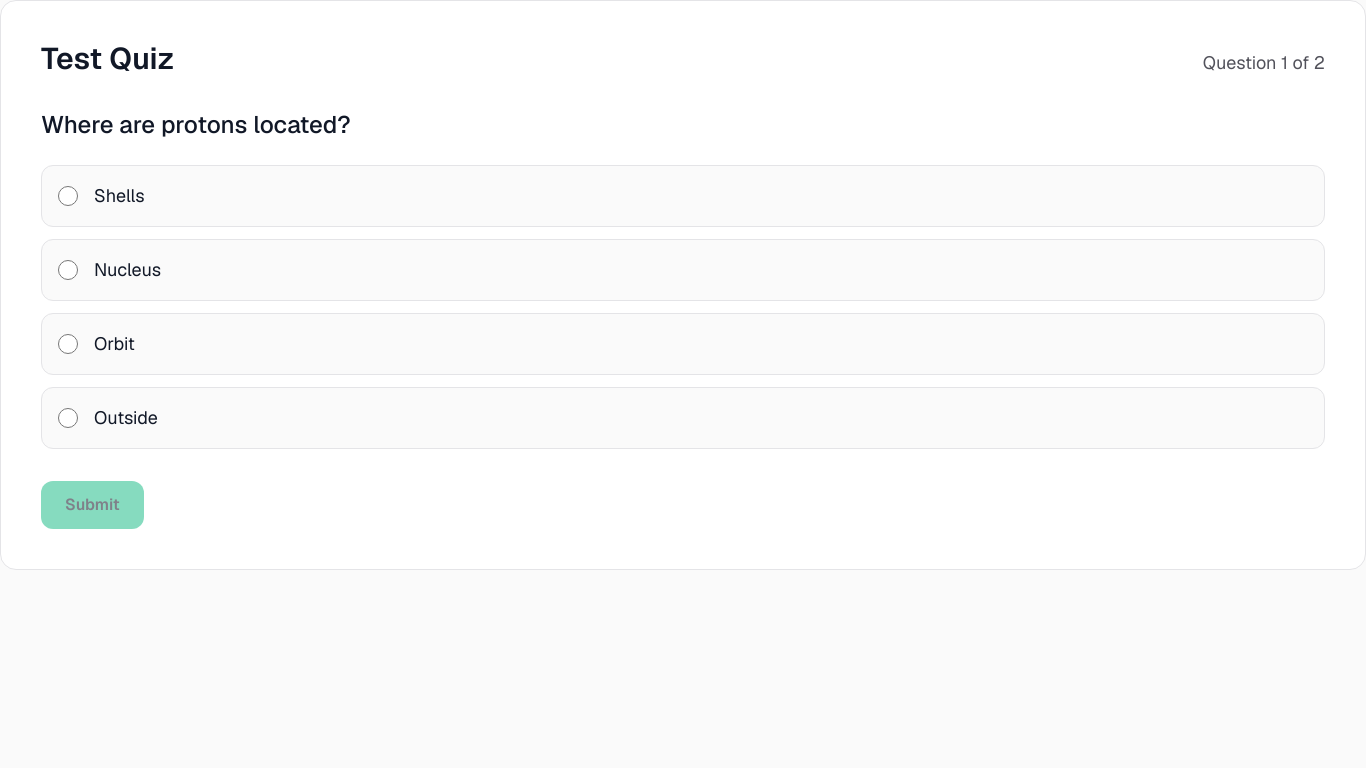
Test: QuizShell › allows answer selection without exposing correctness
Click the radio button labelled "Nucleus" at (68, 270), box left=58, top=260, right=78, bottom=280
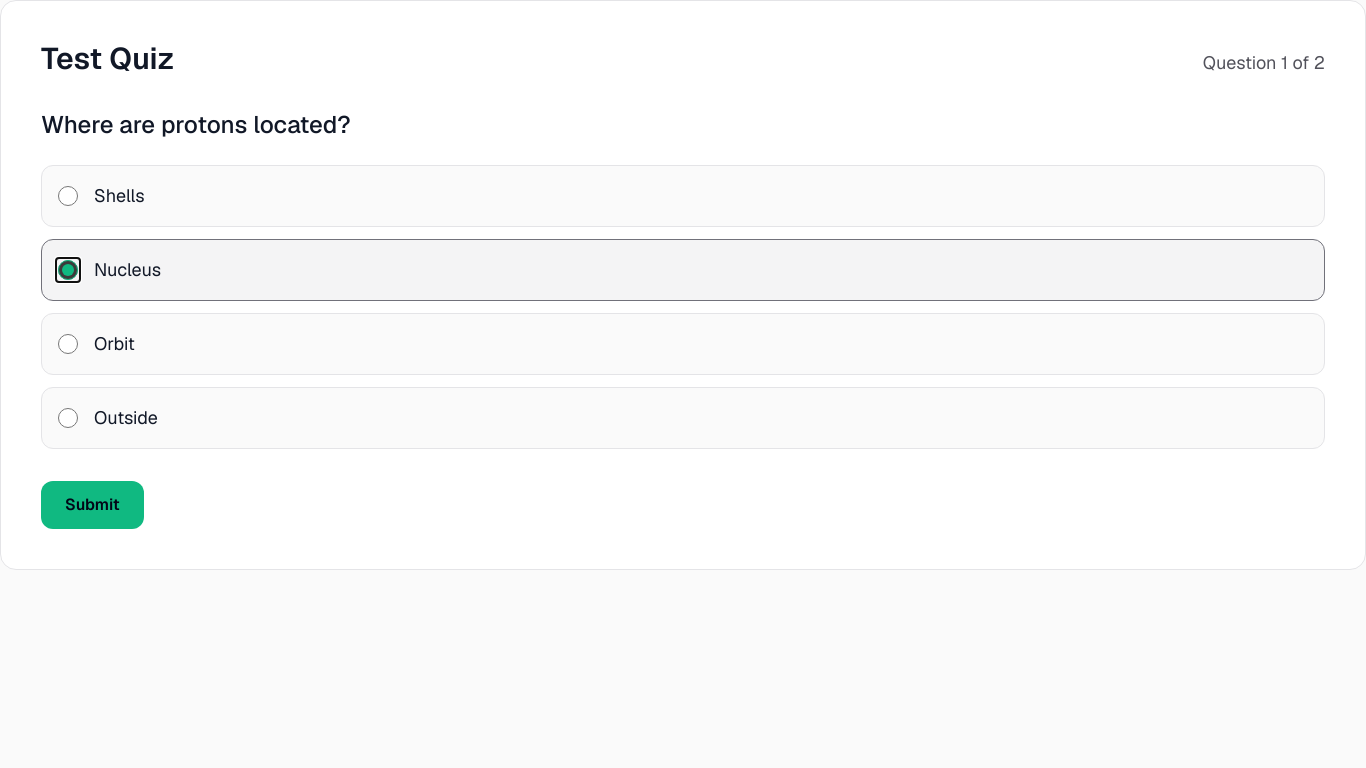
Click the button "Submit" at (92, 505), box left=41, top=481, right=144, bottom=529
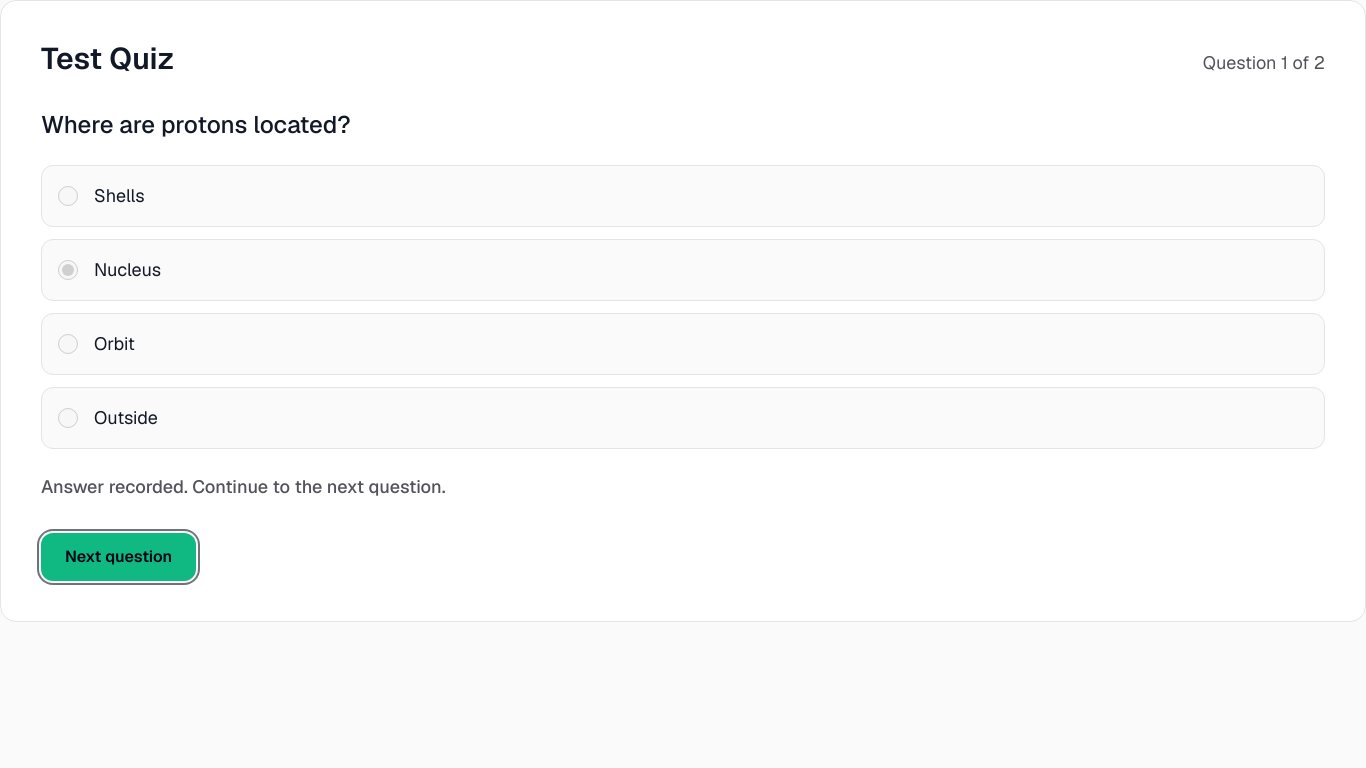
Expected: the message reads "Answer recorded. Continue to the next question.", left=41, top=475, right=446, bottom=498
